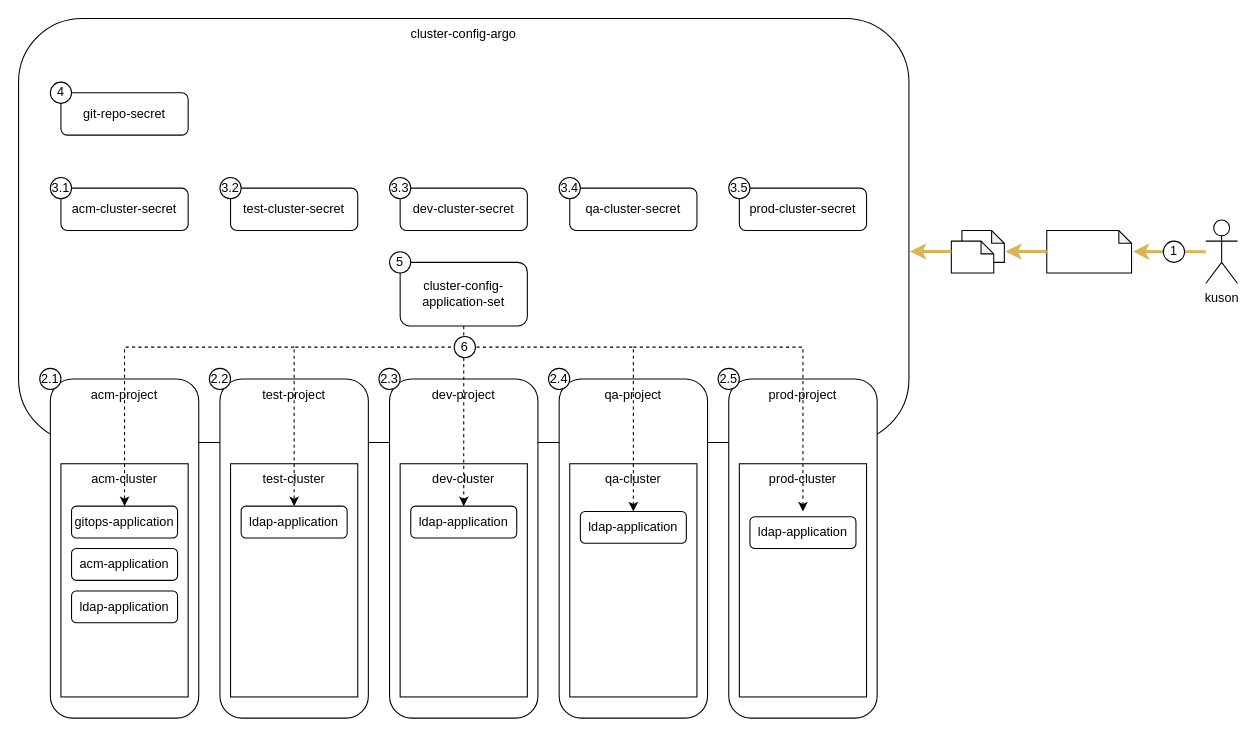
Some shapes in this 1257 by 737 pixel diagram are drawn without their labels. Here are the shapes that lost their labels. From the top down, the centre of each, then its label:
the point at 972,256: gitops
the point at 1089,251: kustomization
